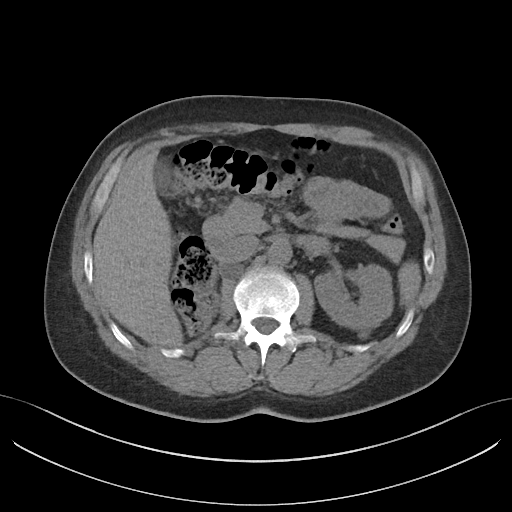Lesion: (356, 325, 373, 340)
